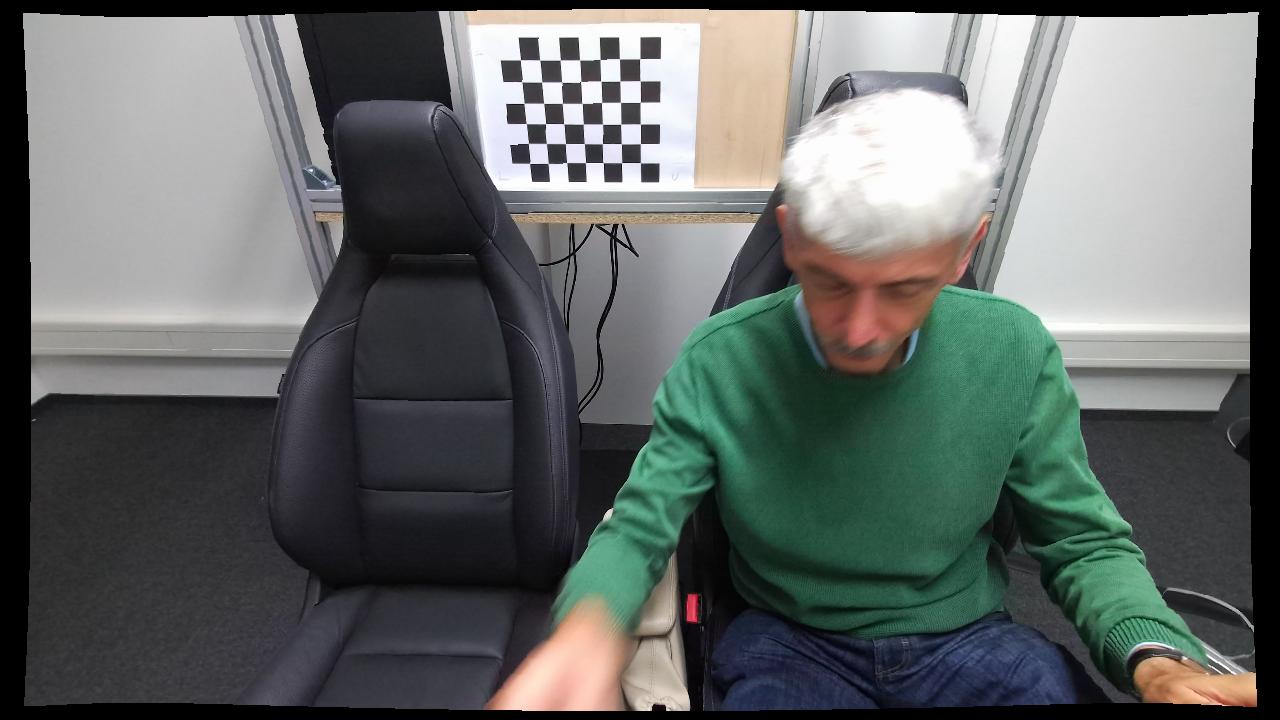Distracted: (487, 87, 1061, 709)
